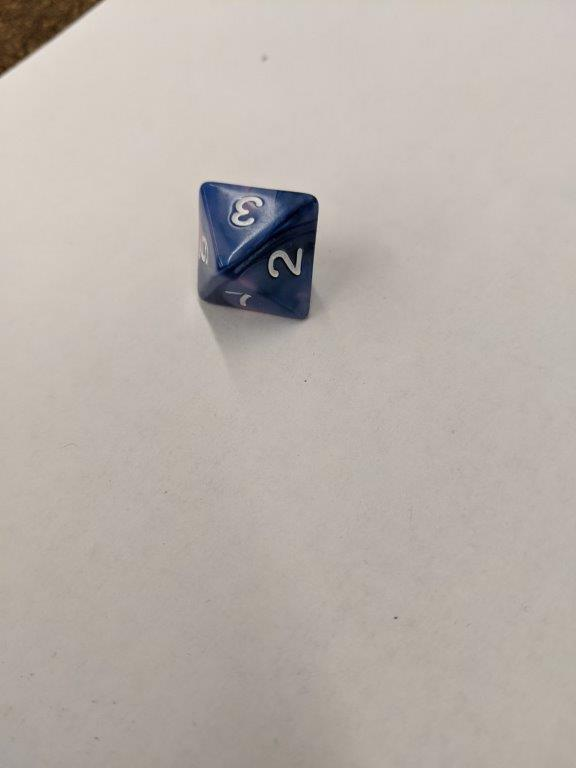d8-3: (193, 180, 322, 323)
